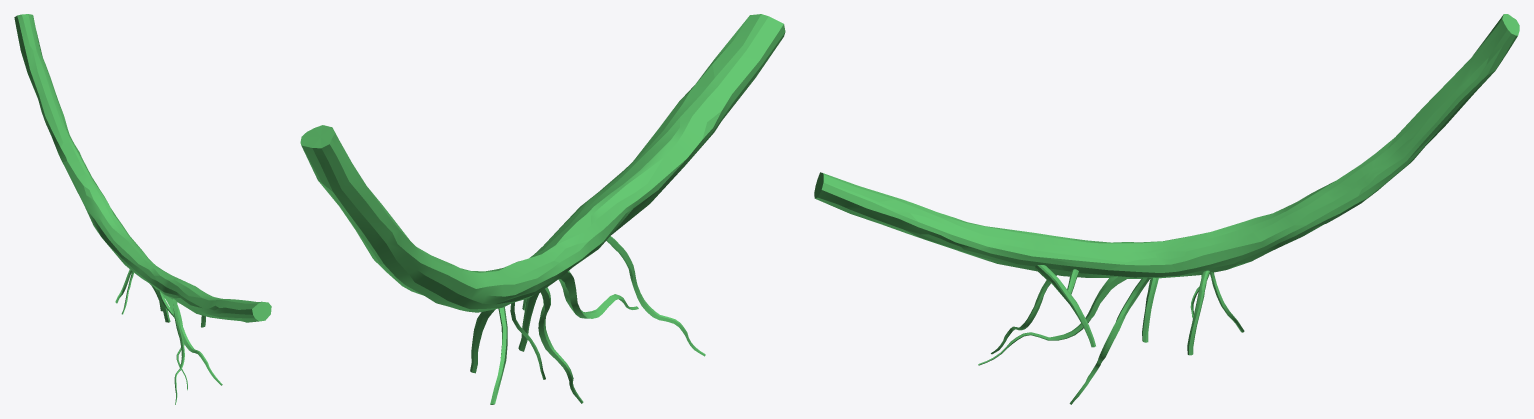
Rendered from jungle_trunk_ground_B.fbx.
The picture shows the model from 3 angles, left to right: view 1: azimuth 30°, elevation 25°; view 2: azimuth 150°, elevation 25°; view 3: azimuth 270°, elevation 25°; orthographic projection. The views are drawn at different scales.
Visible parts, largest first — view 1: jungle_trunk_ground_B1, jungle_trunk_ground_B_branch_H, jungle_trunk_ground_B_branch_I; view 2: jungle_trunk_ground_B1, jungle_trunk_ground_B_branch_H, jungle_trunk_ground_B_branch_I, jungle_trunk_ground_B_branch_G, jungle_trunk_ground_B_branch_D, jungle_trunk_ground_B_branch_C, jungle_trunk_ground_B_branch_F; view 3: jungle_trunk_ground_B1, jungle_trunk_ground_B_branch_H, jungle_trunk_ground_B_branch_G, jungle_trunk_ground_B_branch_A.
Part boxes in pixels (x1,y1,x2,y2): jungle_trunk_ground_B1: (14, 14, 271, 322); jungle_trunk_ground_B_branch_H: (160, 291, 222, 385); jungle_trunk_ground_B_branch_I: (173, 299, 184, 404); jungle_trunk_ground_B1: (300, 14, 785, 312); jungle_trunk_ground_B_branch_H: (558, 271, 638, 318); jungle_trunk_ground_B_branch_I: (606, 236, 705, 356); jungle_trunk_ground_B_branch_G: (538, 287, 583, 403); jungle_trunk_ground_B_branch_D: (490, 307, 507, 404); jungle_trunk_ground_B_branch_C: (470, 309, 495, 373); jungle_trunk_ground_B_branch_F: (518, 291, 541, 351); jungle_trunk_ground_B1: (814, 14, 1519, 278); jungle_trunk_ground_B_branch_H: (978, 276, 1128, 365); jungle_trunk_ground_B_branch_G: (1069, 277, 1150, 404); jungle_trunk_ground_B_branch_A: (1034, 265, 1095, 347).
Bounding box in the file's own units: 124 × 485 × 814.
